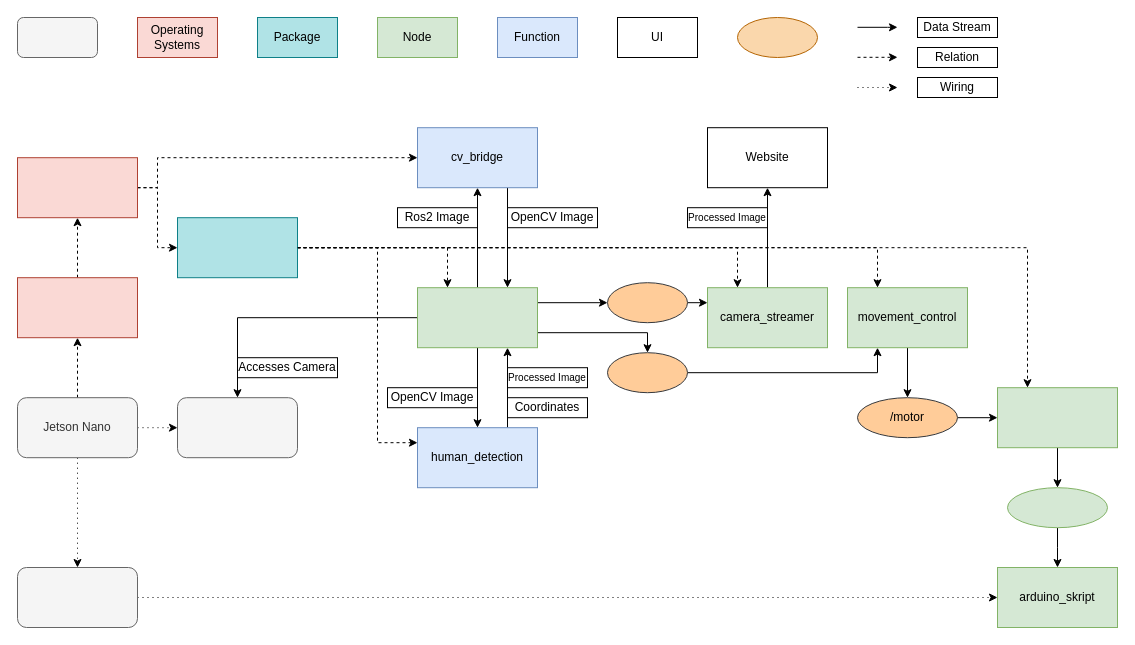
The diagram is 1135 pixels wide and 645 high, and some of its shapes have lost their labels. The box of each missing label's shape, as (x1, y1, x2, y2) in pixels:
/opencv_image: (606, 282, 688, 323)
/position_data: (606, 352, 688, 393)
Arduino: (16, 566, 138, 628)
arduino_interface: (996, 387, 1118, 448)
Betriebsystem Ubuntu Server 22.04.3 LTS (64-bit): (16, 277, 138, 338)
camera_opencv_loop: (416, 287, 538, 348)
camera_package: (176, 217, 298, 278)
Hardware: (16, 16, 98, 58)
Kamera: (176, 397, 298, 458)
ROS2 Humble: (16, 157, 138, 218)
serial port: (1006, 487, 1108, 528)
Topics: (736, 16, 818, 58)
